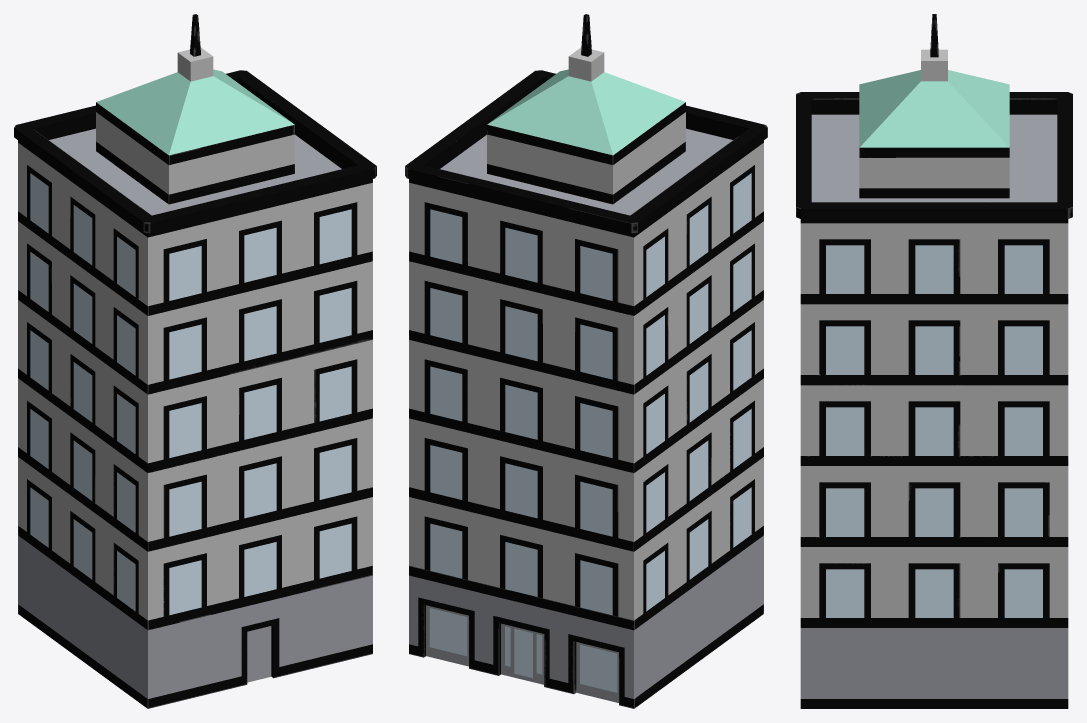
The model's file is skyscraperE1.fbx.
3 renders of one model, left to right at view 1: azimuth 30°, elevation 25°; view 2: azimuth 150°, elevation 25°; view 3: azimuth 270°, elevation 25°, orthographic. The views are drawn at different scales.
Visible parts, largest first — view 1: skyscraperE; view 2: skyscraperE; view 3: skyscraperE.
Part boxes in pixels (bbox=[...]): skyscraperE: bbox=[14, 14, 376, 708]; skyscraperE: bbox=[405, 14, 767, 708]; skyscraperE: bbox=[796, 14, 1072, 708].
Bounding box in the file's own units: 124 × 315 × 124.
